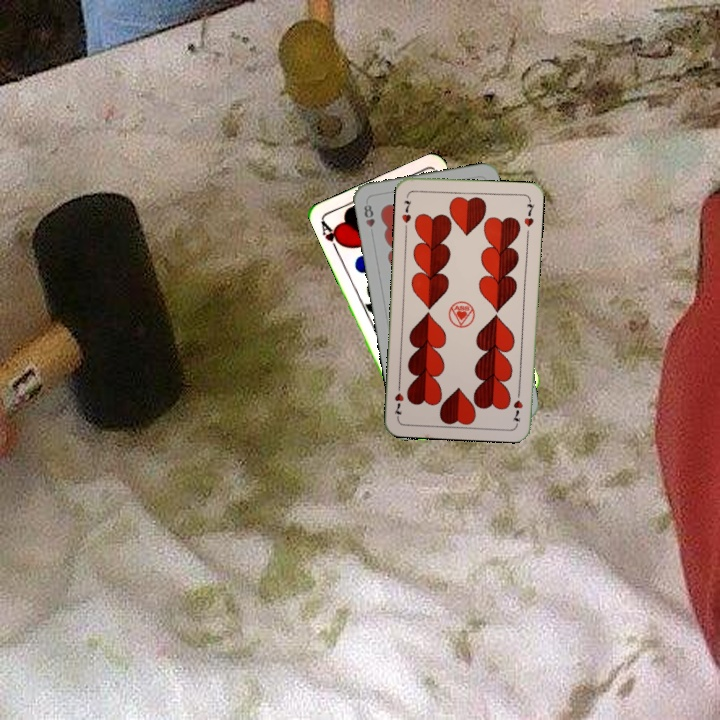H7: (509, 385, 525, 424), (398, 196, 414, 225)
H8: (360, 200, 377, 238)
HA: (317, 217, 346, 255)
